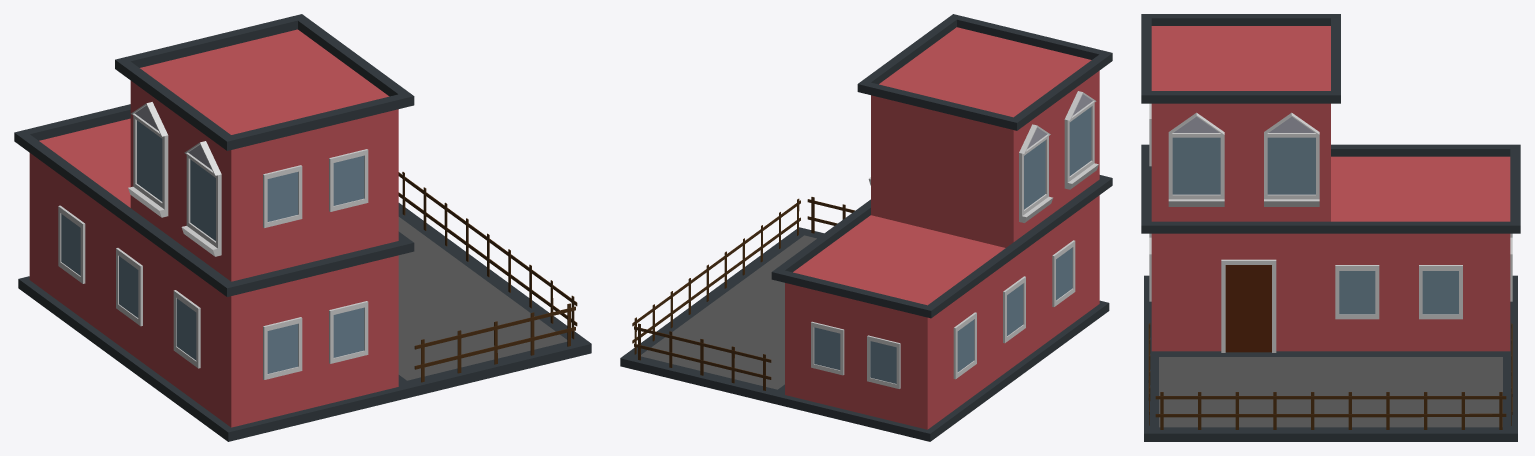
The model's file is garden red.fbx.
3 views of the same model, side by side, from view 1: azimuth 30°, elevation 25°; view 2: azimuth 150°, elevation 25°; view 3: azimuth 270°, elevation 25° (orthographic). The views are drawn at different scales.
Parts seen in each view (by area): view 1: garden green light red; view 2: garden green light red; view 3: garden green light red.
Boxes of the visible parts, x1=… form: garden green light red: x1=14, y1=14, x2=591, y2=441; garden green light red: x1=620, y1=14, x2=1112, y2=441; garden green light red: x1=1141, y1=14, x2=1520, y2=441.
Bounding box in the file's own units: 8.06 × 6.35 × 8.12.
